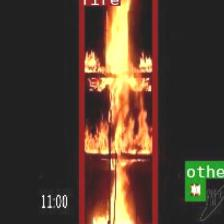fire: (78, 0, 156, 224)
